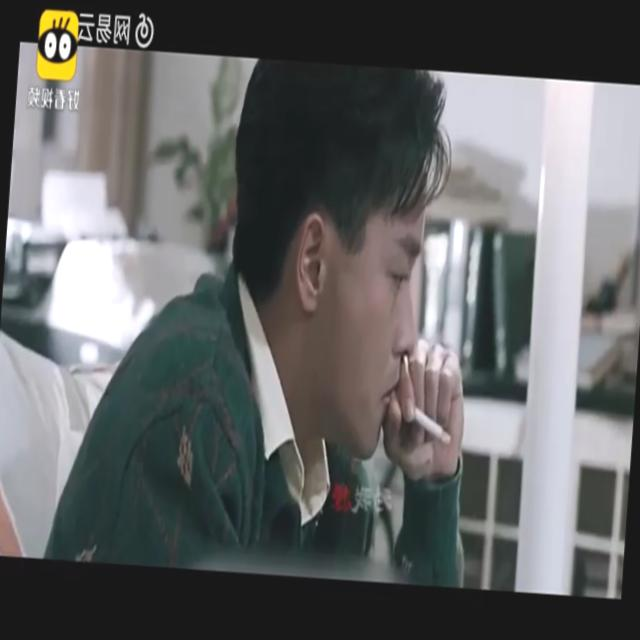cigarette: (411, 403, 460, 460)
